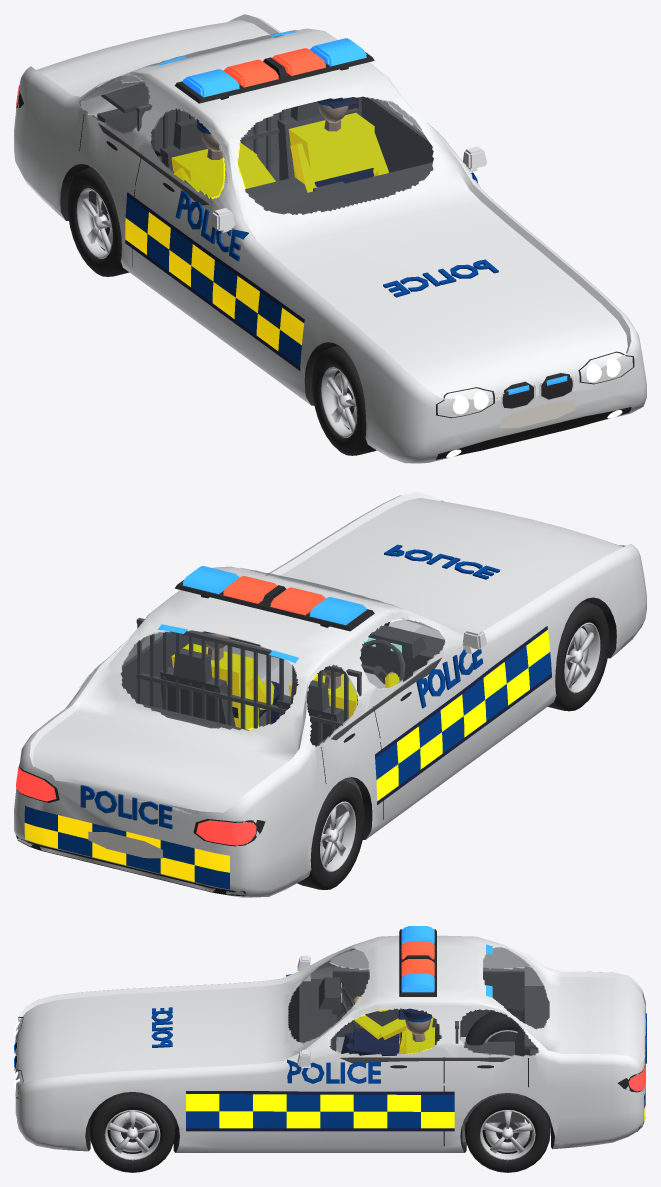
Rendered from interceptor.glb.
3 views of the same model, one above another, from view 1: azimuth 30°, elevation 25°; view 2: azimuth 150°, elevation 25°; view 3: azimuth 270°, elevation 25° (orthographic). The views are drawn at different scales.
Visible parts, largest first — view 1: body, glass, interior, livery_blue, passenger, trim, wheel_fr, wheel_rr, livery_yellow, driver, lightbar_blue, lightbar_red (+4 smaller); view 2: body, glass, interior, livery_blue, livery_yellow, wheel_fr, wheel_rr, trim, passenger, lightbar_blue, lights, lightbar_red (+3 smaller); view 3: body, glass, interior, livery_blue, wheel_fl, wheel_rl, livery_yellow, livery_dark, driver, trim, wheel_rr, passenger (+4 smaller).
Boxes of the visible parts, left/top/right/bottom form: body: left=14, top=14, right=646, bottom=463; glass: left=79, top=30, right=432, bottom=213; interior: left=89, top=82, right=433, bottom=214; livery_blue: left=125, top=172, right=498, bottom=366; passenger: left=288, top=97, right=388, bottom=192; trim: left=16, top=52, right=634, bottom=459; wheel_fr: left=312, top=345, right=376, bottom=455; wheel_rr: left=67, top=168, right=129, bottom=276; livery_yellow: left=125, top=212, right=304, bottom=350; driver: left=171, top=119, right=275, bottom=198; lightbar_blue: left=182, top=38, right=366, bottom=97; lightbar_red: left=223, top=48, right=325, bottom=87; body: left=14, top=492, right=646, bottom=897; glass: left=80, top=568, right=444, bottom=745; interior: left=120, top=618, right=445, bottom=827; livery_blue: left=24, top=544, right=551, bottom=889; livery_yellow: left=24, top=630, right=550, bottom=881; wheel_fr: left=547, top=600, right=609, bottom=711; wheel_rr: left=297, top=781, right=364, bottom=889; trim: left=16, top=546, right=624, bottom=896; passenger: left=171, top=631, right=284, bottom=730; lightbar_blue: left=182, top=566, right=366, bottom=625; lights: left=16, top=766, right=256, bottom=845; lightbar_red: left=223, top=576, right=325, bottom=615; body: left=15, top=935, right=645, bottom=1152; glass: left=288, top=947, right=548, bottom=1055; interior: left=288, top=970, right=549, bottom=1145; livery_blue: left=151, top=974, right=646, bottom=1128; wheel_fl: left=89, top=1092, right=175, bottom=1172; wheel_rl: left=465, top=1094, right=550, bottom=1172; livery_yellow: left=186, top=1024, right=645, bottom=1128; livery_dark: left=186, top=1091, right=454, bottom=1131; driver: left=341, top=996, right=433, bottom=1056; trim: left=14, top=929, right=645, bottom=1152; wheel_rr: left=465, top=1009, right=522, bottom=1045; passenger: left=398, top=1008, right=434, bottom=1053.
Size of the model in its own units: 1.85 by 1.47 by 4.88.
